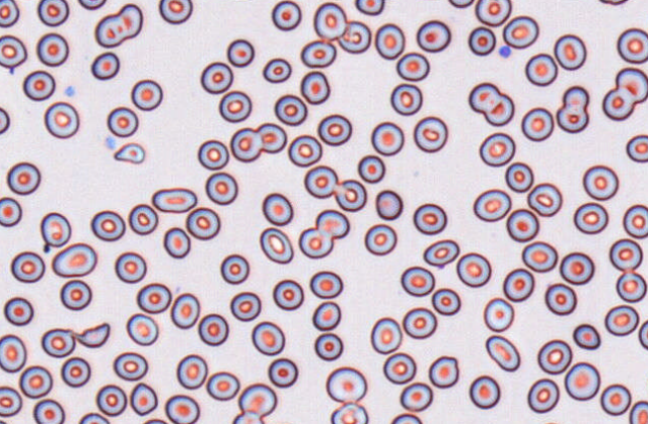PLT: (102, 135, 118, 152), (497, 44, 513, 61), (64, 84, 76, 98)
RBC: (94, 3, 143, 48), (468, 81, 514, 126), (51, 242, 97, 277), (556, 85, 589, 133), (325, 366, 367, 403), (564, 361, 600, 400), (238, 382, 277, 417), (43, 101, 79, 138), (313, 1, 347, 40), (582, 164, 618, 200), (485, 334, 520, 371), (413, 115, 448, 152), (473, 188, 511, 222), (259, 227, 293, 264), (502, 15, 539, 49), (527, 182, 562, 217), (537, 339, 572, 374), (456, 252, 491, 287), (479, 132, 515, 166), (553, 33, 586, 70), (370, 316, 402, 354), (151, 187, 197, 213), (303, 164, 338, 198), (185, 206, 220, 240), (251, 320, 285, 355), (6, 161, 41, 195), (559, 251, 594, 285), (615, 67, 648, 103), (229, 127, 262, 162), (287, 134, 322, 167), (402, 306, 437, 339), (412, 202, 447, 235), (521, 106, 554, 141), (371, 121, 404, 156), (10, 250, 45, 283), (573, 201, 608, 234), (521, 240, 557, 272), (616, 27, 648, 63), (374, 22, 405, 59), (602, 86, 635, 120), (524, 52, 557, 86), (205, 171, 238, 205), (609, 238, 643, 271), (337, 20, 371, 53), (506, 208, 539, 242), (416, 19, 450, 52), (527, 378, 559, 413), (502, 267, 534, 302), (604, 304, 639, 336), (468, 374, 500, 409), (317, 113, 352, 145), (90, 209, 125, 241), (176, 353, 207, 389), (40, 211, 71, 247), (170, 292, 200, 329), (334, 178, 367, 211), (19, 365, 52, 398), (200, 61, 233, 94), (274, 93, 307, 126), (544, 282, 577, 315), (382, 352, 416, 384), (261, 192, 293, 226), (36, 32, 68, 66), (298, 227, 333, 258), (136, 282, 171, 313), (483, 297, 514, 332), (422, 238, 459, 267), (364, 223, 397, 255), (218, 90, 251, 122), (399, 381, 433, 412), (400, 265, 434, 296), (113, 351, 148, 381), (164, 394, 200, 423), (300, 39, 336, 68), (126, 313, 158, 345), (95, 384, 127, 416), (114, 251, 146, 283), (272, 278, 304, 310), (390, 83, 422, 115), (131, 79, 163, 111), (22, 70, 55, 101), (197, 313, 228, 346), (59, 279, 92, 310), (428, 355, 459, 388), (315, 209, 349, 239), (41, 327, 75, 357), (300, 70, 330, 104), (0, 333, 26, 372), (255, 122, 287, 153), (615, 270, 646, 302), (197, 139, 229, 170), (600, 383, 631, 415), (106, 106, 138, 137), (206, 371, 239, 401), (396, 51, 429, 81), (129, 382, 158, 416), (309, 270, 343, 299), (474, 0, 511, 26), (229, 291, 261, 321), (128, 203, 158, 235), (267, 357, 298, 387), (60, 356, 90, 387), (0, 34, 27, 68), (622, 203, 648, 238), (3, 296, 33, 326), (271, 0, 301, 30), (504, 161, 533, 192), (220, 253, 249, 284), (312, 300, 341, 330), (375, 189, 403, 220), (163, 226, 190, 258), (314, 332, 343, 361), (90, 51, 119, 80), (158, 0, 193, 24), (37, 0, 69, 26), (32, 398, 65, 423), (357, 154, 385, 183), (431, 287, 460, 315), (467, 26, 495, 55), (226, 38, 254, 67), (330, 402, 368, 423), (262, 57, 291, 83), (572, 323, 600, 349), (0, 385, 22, 417), (0, 196, 22, 227), (626, 134, 648, 162), (0, 0, 19, 27), (629, 400, 648, 424), (354, 0, 384, 15), (232, 411, 264, 423), (389, 412, 422, 423), (78, 412, 110, 423), (638, 318, 648, 350), (77, 0, 106, 10), (0, 106, 10, 134), (447, 0, 474, 8), (597, 0, 630, 5), (142, 418, 168, 423), (266, 420, 298, 424), (536, 420, 564, 424), (645, 367, 648, 396)
Schistocyte: (71, 322, 113, 349), (114, 142, 146, 165)
